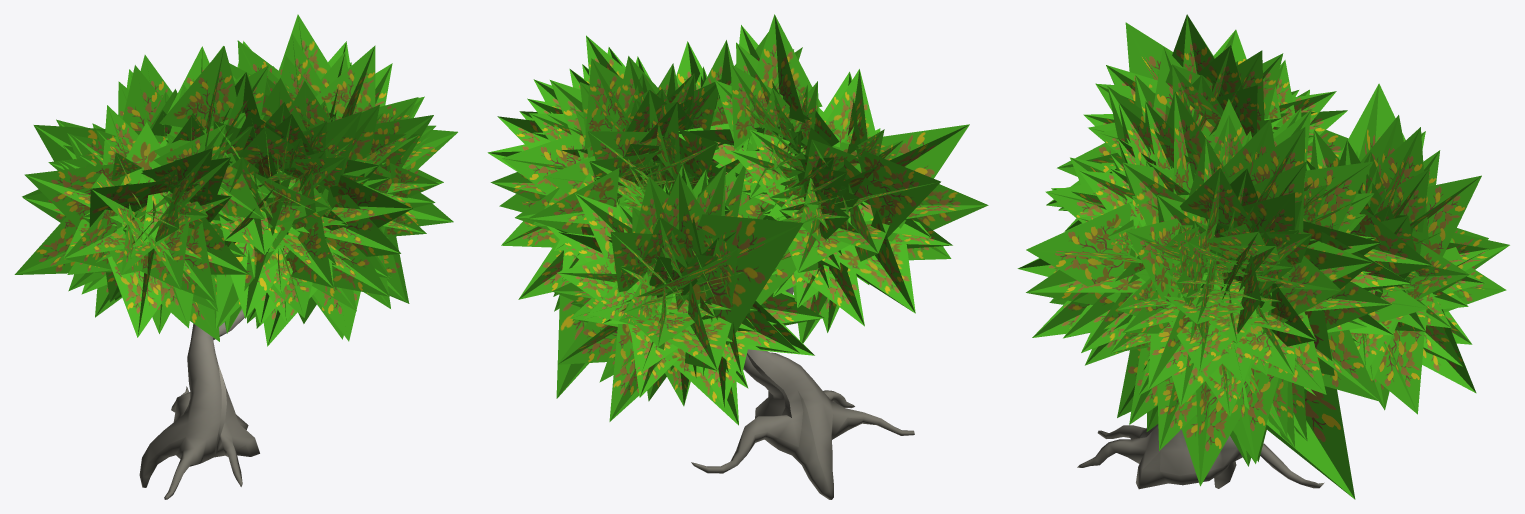
Rendered from Tree_5C.fbx.
The picture shows the model from 3 angles, left to right: view 1: azimuth 30°, elevation 25°; view 2: azimuth 150°, elevation 25°; view 3: azimuth 270°, elevation 25°; orthographic projection. The views are drawn at different scales.
Parts seen in each view (by area): view 1: Tree_5C; view 2: Tree_5C; view 3: Tree_5C.
Part boxes in pixels (x1=…): Tree_5C: x1=14, y1=14, x2=457, y2=499; Tree_5C: x1=487, y1=14, x2=988, y2=499; Tree_5C: x1=1017, y1=14, x2=1509, y2=499.
Size of the model in its own units: 1496 by 1482 by 1291.
